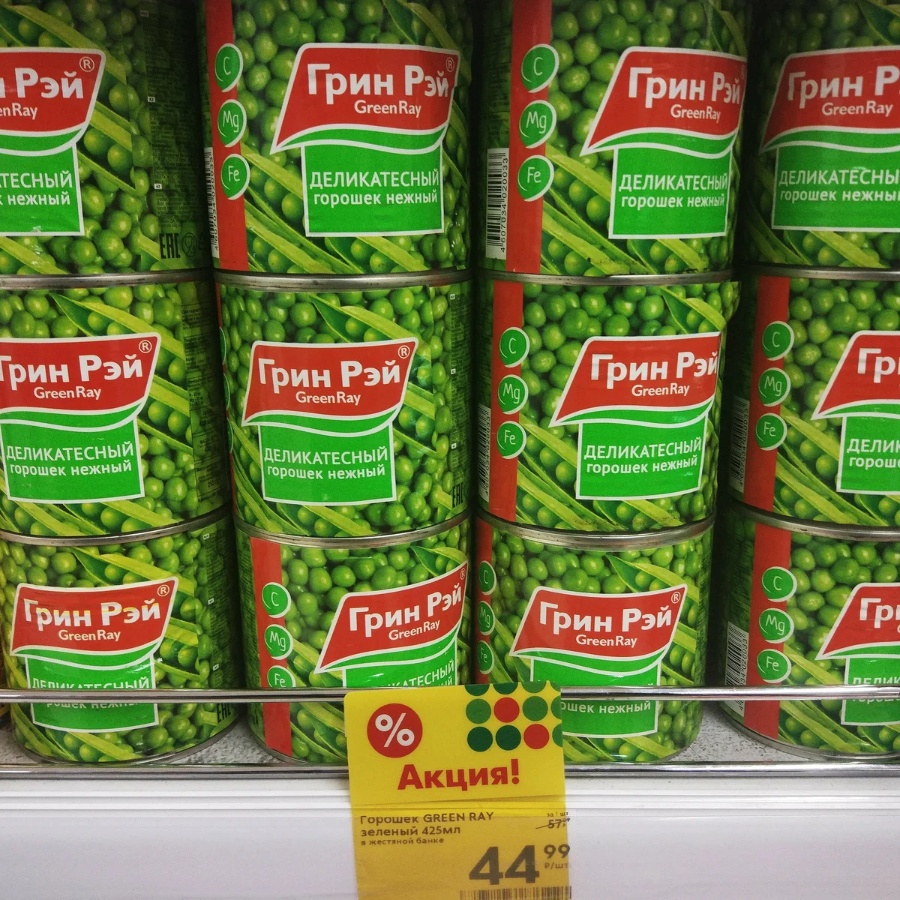peas: (200, 1, 499, 279), (209, 270, 489, 557), (477, 1, 757, 285), (475, 256, 732, 542), (1, 519, 270, 776)
